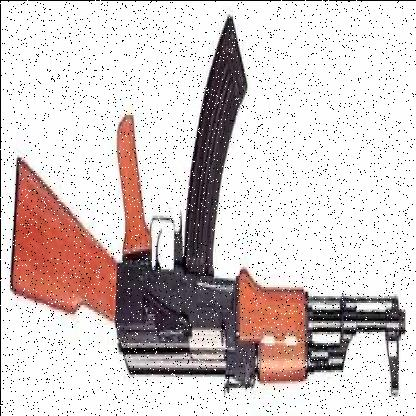rifle: (8, 16, 409, 400)
